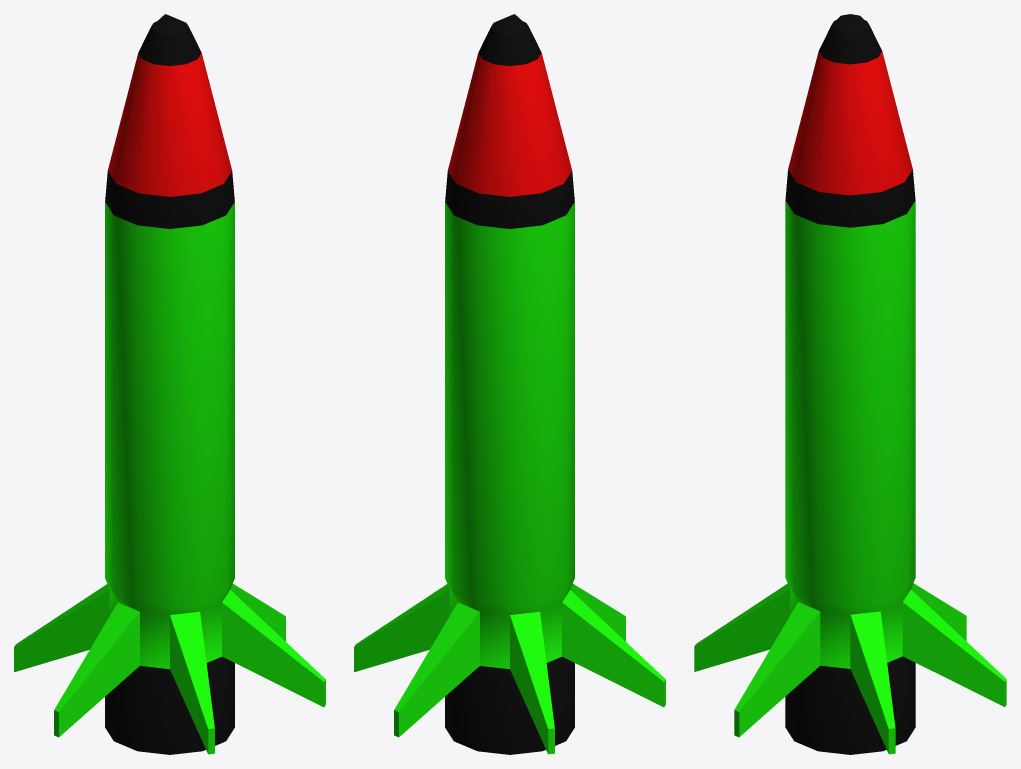
The model's file is Rocket.FBX.
The picture shows the model from 3 angles, left to right: view 1: azimuth 30°, elevation 25°; view 2: azimuth 150°, elevation 25°; view 3: azimuth 270°, elevation 25°; orthographic projection.
Parts seen in each view (by area): view 1: Rocket; view 2: Rocket; view 3: Rocket.
Part boxes in pixels (left/top/right/bottom): Rocket: left=14, top=14, right=325, bottom=754; Rocket: left=354, top=14, right=665, bottom=754; Rocket: left=694, top=14, right=1006, bottom=754.
Size of the model in its own units: 9.53 by 23.99 by 9.53.
